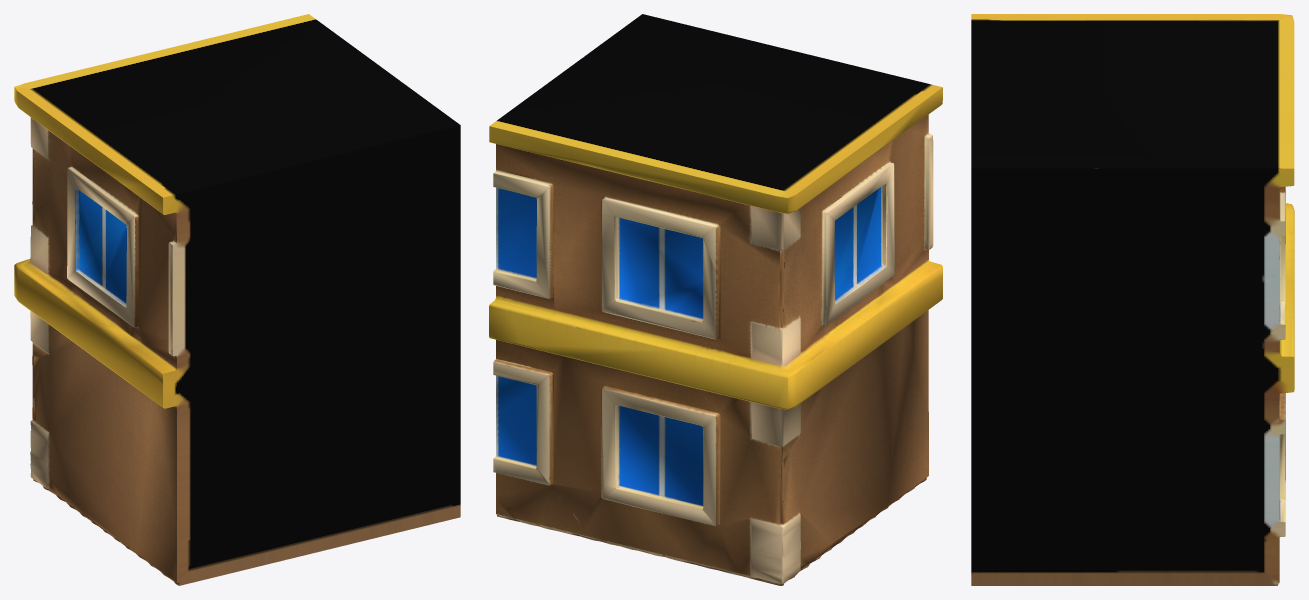
Rendered from 3-ground-floor-back-left.fbx.
3 renders of one model, left to right at view 1: azimuth 30°, elevation 25°; view 2: azimuth 150°, elevation 25°; view 3: azimuth 270°, elevation 25°, orthographic. The views are drawn at different scales.
Visible parts, largest first — view 1: ground-floor-back-left; view 2: ground-floor-back-left; view 3: ground-floor-back-left.
Boxes of the visible parts, box(x1,y1,x2,y2) form: ground-floor-back-left: box(14, 14, 460, 585); ground-floor-back-left: box(489, 14, 942, 585); ground-floor-back-left: box(971, 14, 1294, 585).
Bounding box in the file's own units: 4445 × 5598 × 3931.
1 material, 1 textured.
